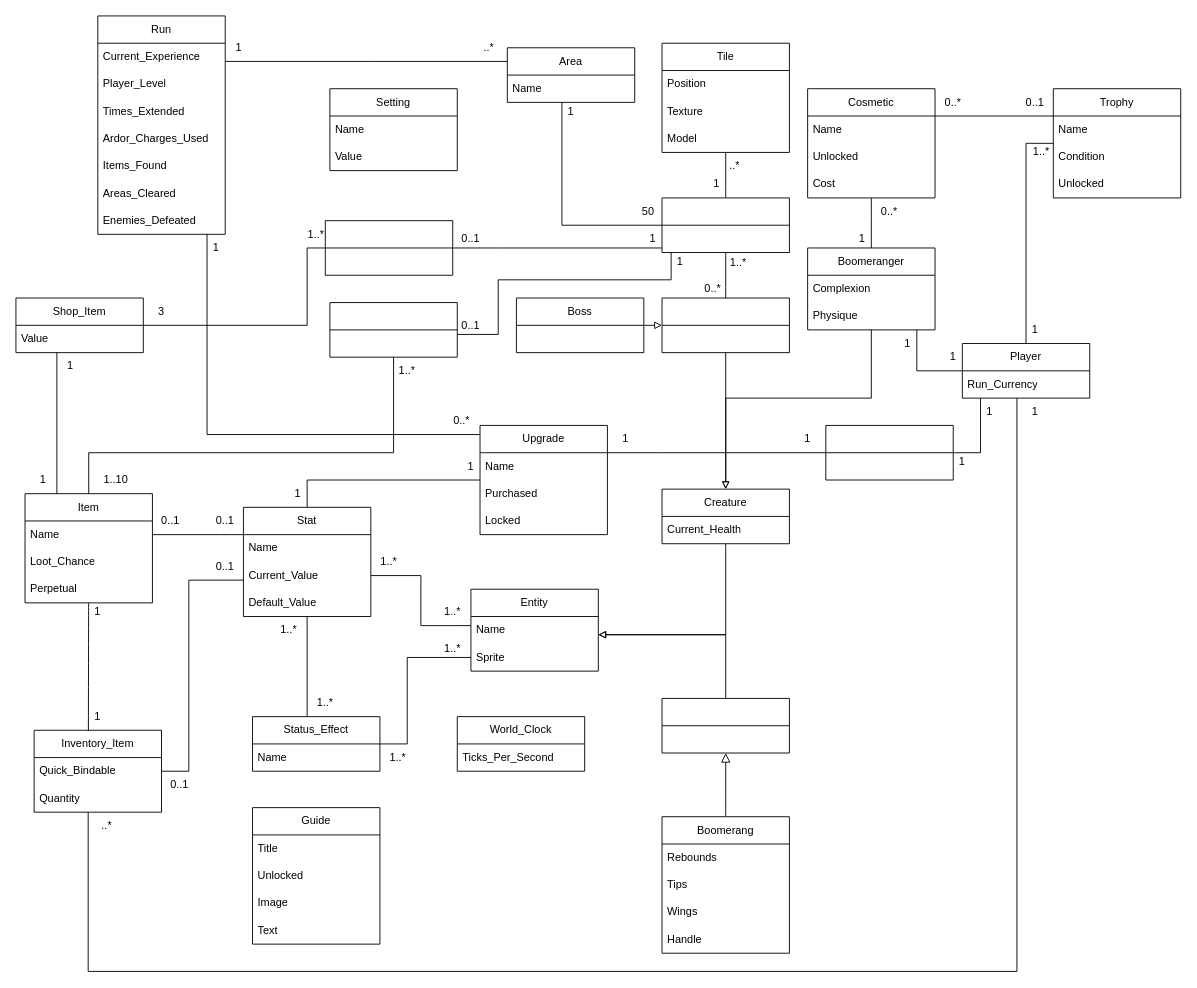
Some shapes in this 1197 by 988 pixel diagram are drawn without their labels. Each missing label, with the centre of its shape:
Chest: point (393, 329)
Enemy: point (725, 325)
Locked_Upgrade: point (889, 452)
Projectile: point (725, 725)
Room: point (725, 225)
Shop: point (388, 247)
